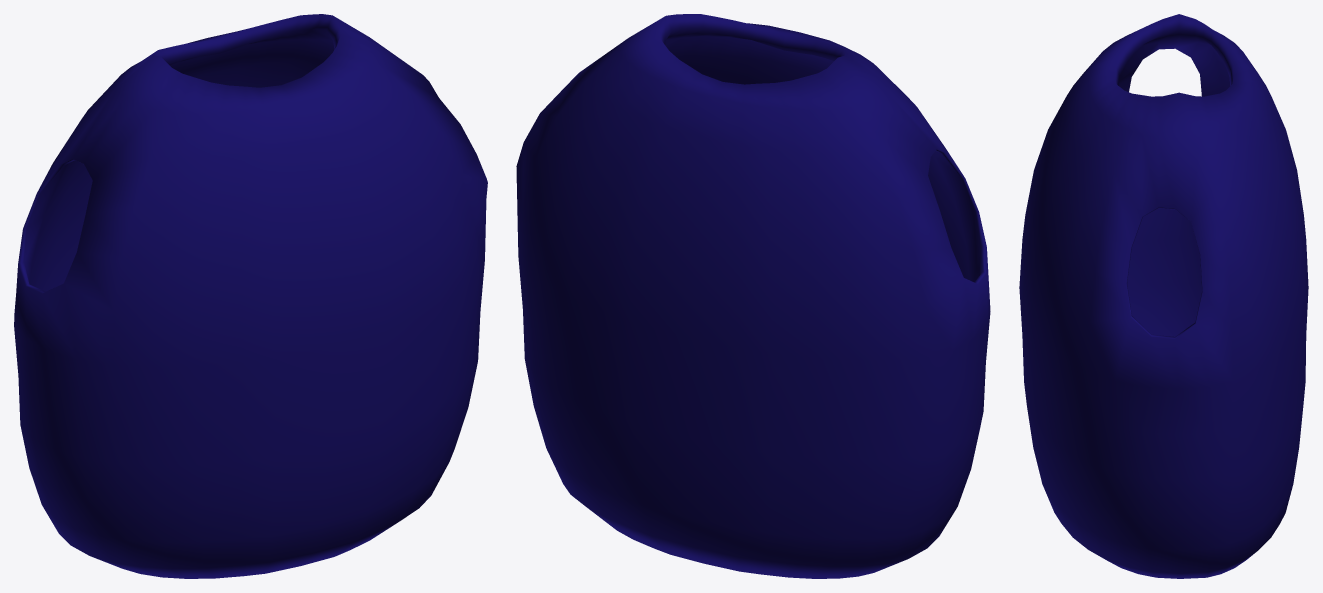
The model's file is pechera.fbx.
3 views of the same model, side by side, from view 1: azimuth 30°, elevation 25°; view 2: azimuth 150°, elevation 25°; view 3: azimuth 270°, elevation 25° (orthographic). The views are drawn at different scales.
Visible parts, largest first — view 1: Sphere; view 2: Sphere; view 3: Sphere.
Boxes of the visible parts, box(x1,y1,x2,y2) form: Sphere: box(14, 14, 487, 578); Sphere: box(516, 14, 990, 578); Sphere: box(1019, 14, 1308, 578).
Bounding box in the file's own units: 192 × 199 × 113.
